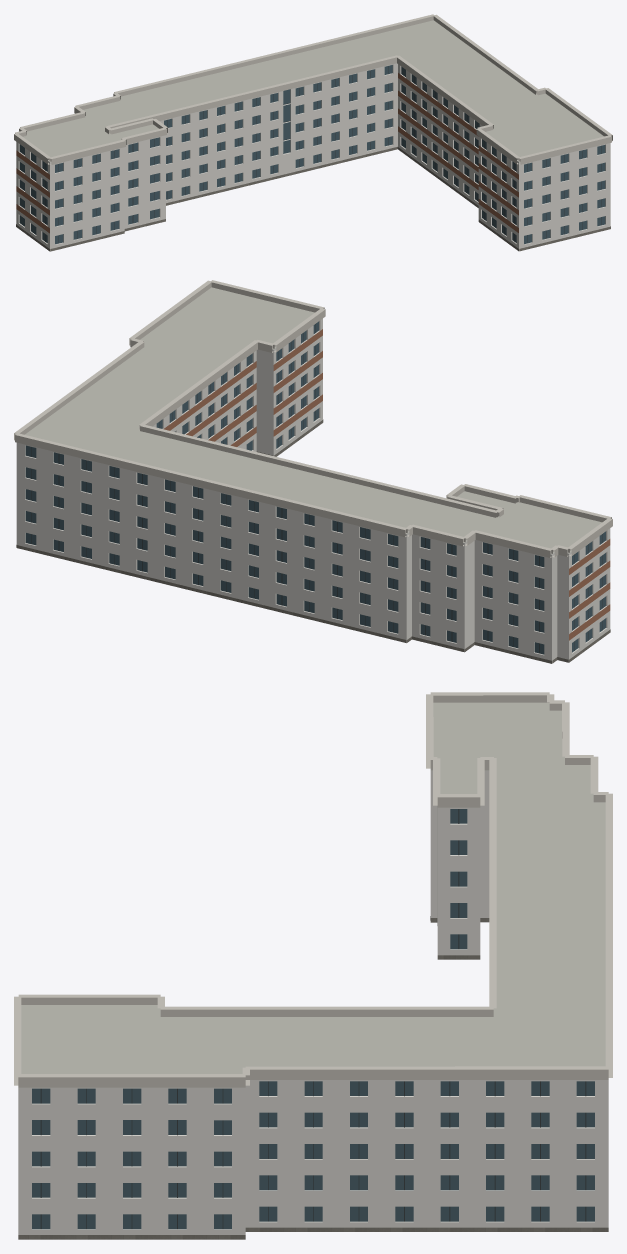
3 renders of one model, top to bottom at view 1: azimuth 30°, elevation 25°; view 2: azimuth 150°, elevation 25°; view 3: azimuth 270°, elevation 25°, orthographic. The views are drawn at different scales.
Parts seen in each view (by area): view 1: oldKoreanMed__wall, oldKoreanMed__roof, oldKoreanMed__glass, oldKoreanMed__trim, oldKoreanMed__wall2, oldKoreanMed__base, oldKoreanMed__frame; view 2: oldKoreanMed__wall, oldKoreanMed__roof, oldKoreanMed__trim, oldKoreanMed__glass, oldKoreanMed__wall2, oldKoreanMed__base, oldKoreanMed__frame; view 3: oldKoreanMed__wall, oldKoreanMed__roof, oldKoreanMed__trim, oldKoreanMed__glass, oldKoreanMed__base, oldKoreanMed__frame.
Boxes of the visible parts, x1,y1,x2,y2 form: oldKoreanMed__wall: (16,63,610,251); oldKoreanMed__roof: (23,20,603,162); oldKoreanMed__glass: (19,65,605,244); oldKoreanMed__trim: (14,14,612,164); oldKoreanMed__wall2: (16,73,518,233); oldKoreanMed__base: (16,147,610,251); oldKoreanMed__frame: (45,66,601,243); oldKoreanMed__wall: (16,318,610,663); oldKoreanMed__roof: (25,287,601,554); oldKoreanMed__trim: (14,280,612,557); oldKoreanMed__glass: (25,321,605,654); oldKoreanMed__wall2: (163,329,610,640); oldKoreanMed__base: (16,419,610,663); oldKoreanMed__frame: (31,324,602,653); oldKoreanMed__wall: (18,770,608,1234); oldKoreanMed__roof: (21,702,605,1073); oldKoreanMed__trim: (14,692,612,1087); oldKoreanMed__glass: (32,809,594,1229); oldKoreanMed__base: (18,916,608,1239); oldKoreanMed__frame: (40,809,586,1229).
Bounding box in the file's own units: 92.01 × 18.32 × 60.52.
Materials: 7 (1 with a texture image).
